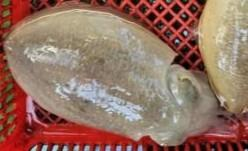Cephalopod: (5, 2, 238, 146)
